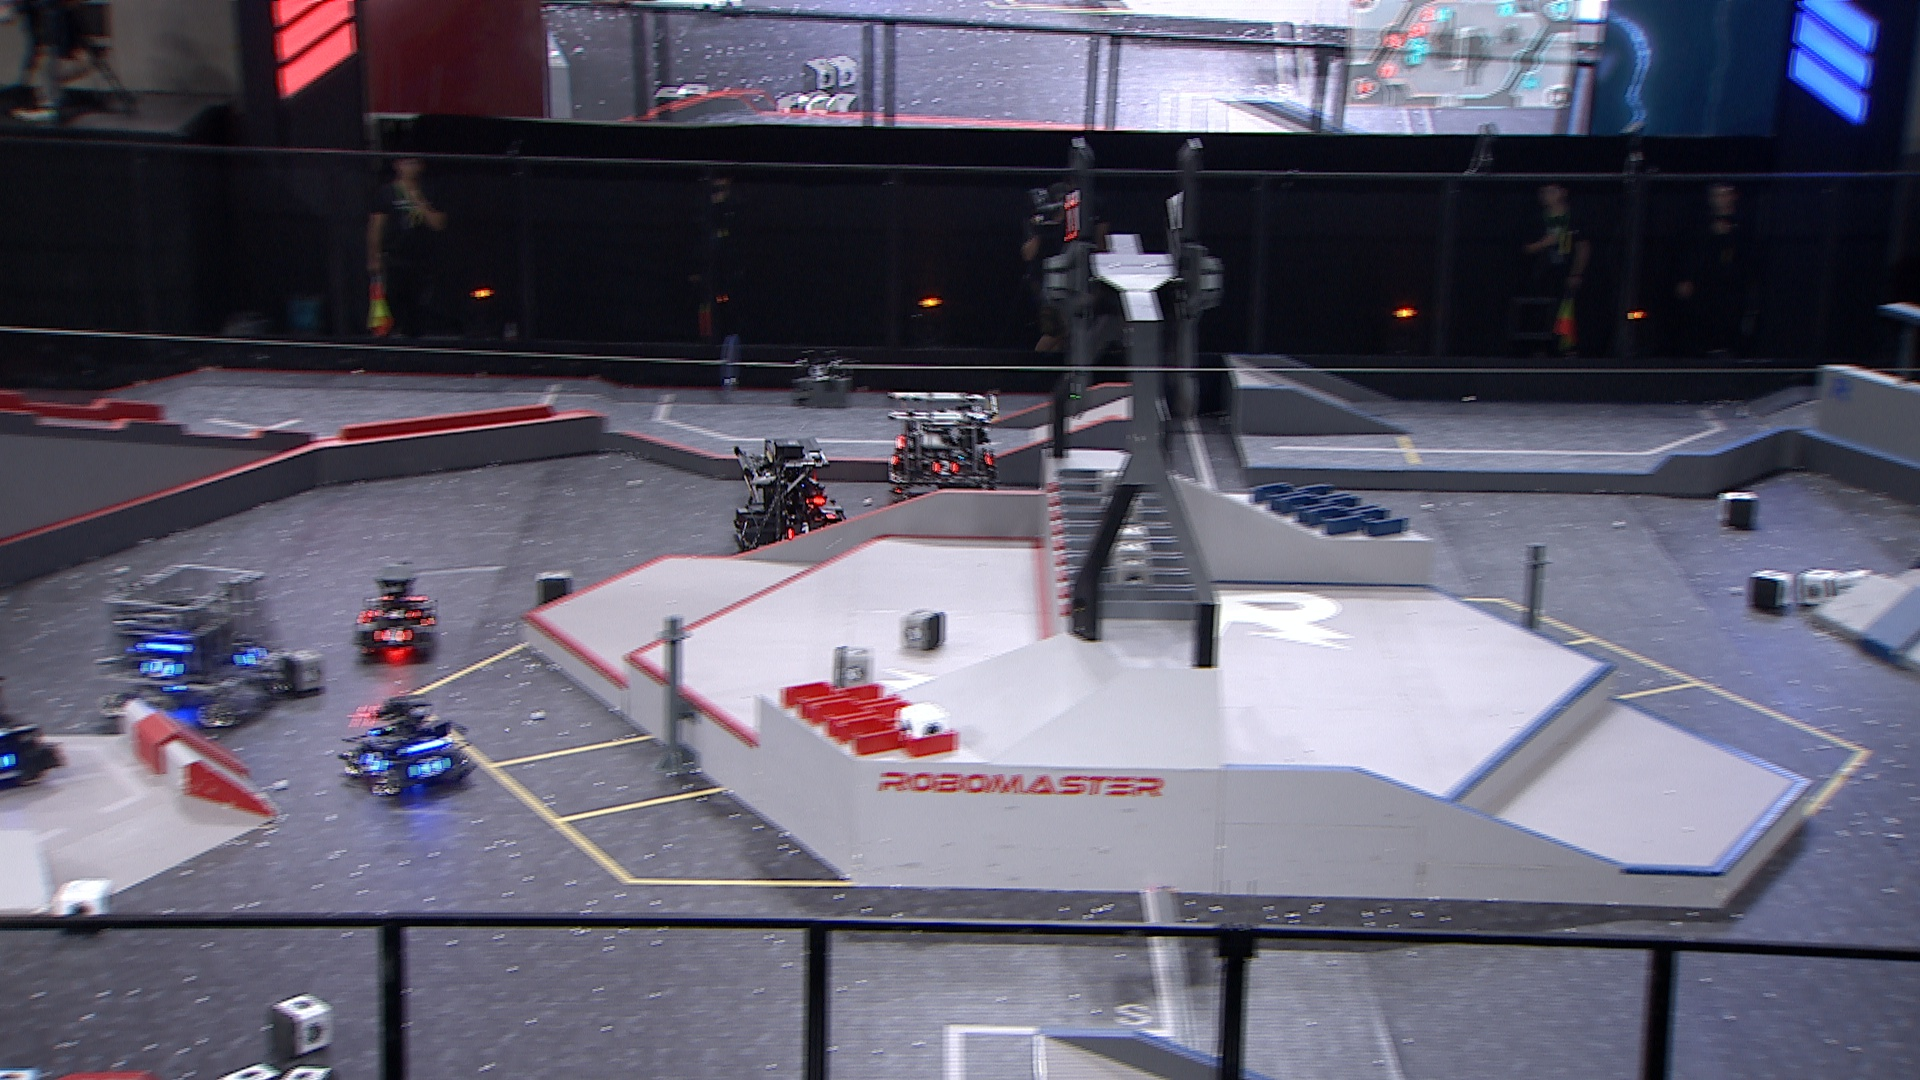armor: (406, 754, 451, 779), (140, 655, 181, 680), (372, 604, 425, 621), (235, 642, 268, 669), (372, 624, 413, 645), (361, 750, 389, 774), (928, 458, 957, 477), (785, 524, 816, 541), (820, 504, 841, 522), (735, 520, 752, 538)
car: (92, 564, 295, 731), (338, 694, 479, 800), (732, 436, 845, 556), (882, 390, 1002, 498), (352, 564, 436, 661)
